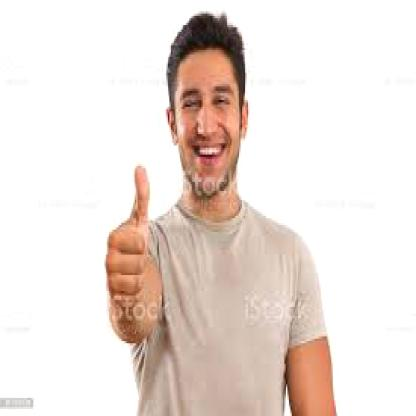Thumbs up: (100, 161, 152, 313)
